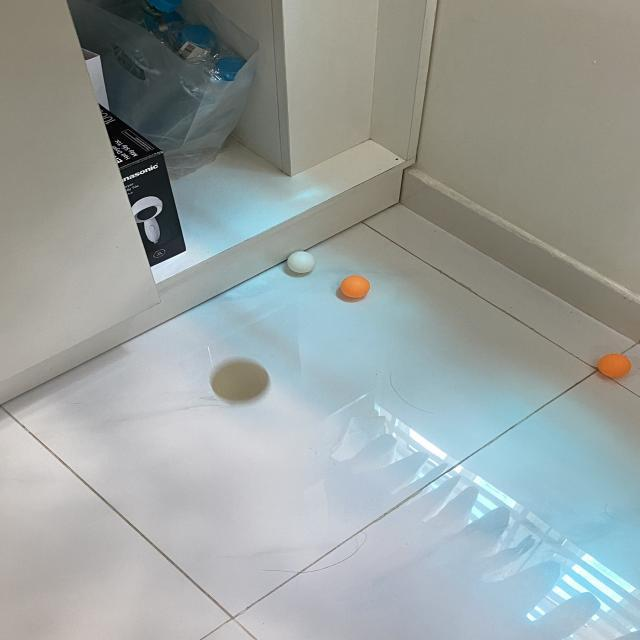ping-pong-ball: (212, 360, 269, 403), (598, 353, 634, 379), (340, 276, 372, 298), (288, 250, 316, 275)
